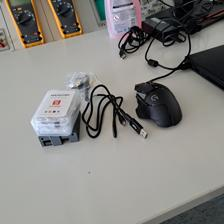mouse: (132, 80, 183, 129)
